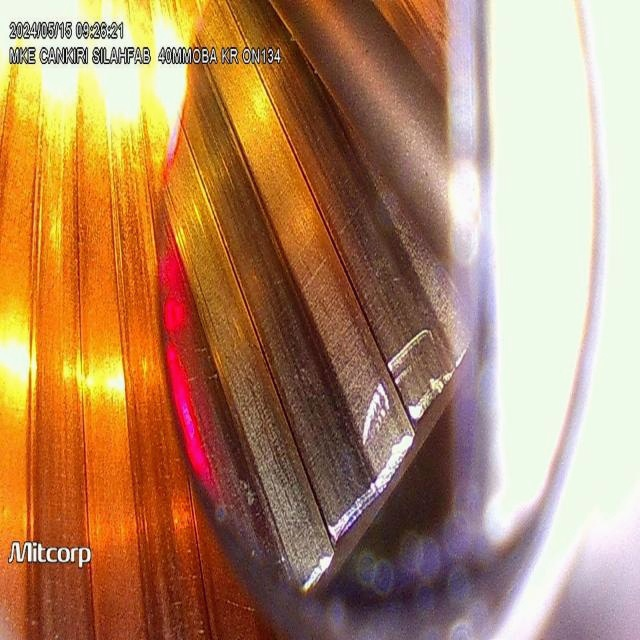hata_3.1: (353, 280, 460, 494)
